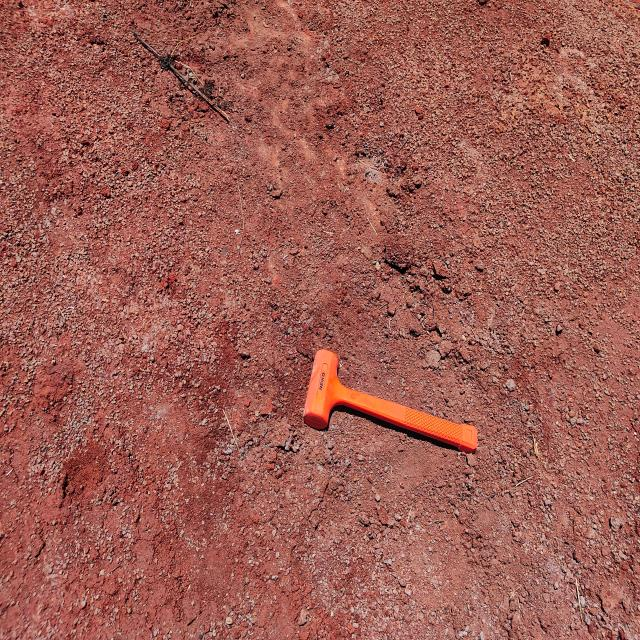Orange_hammer: (302, 348, 478, 454)
